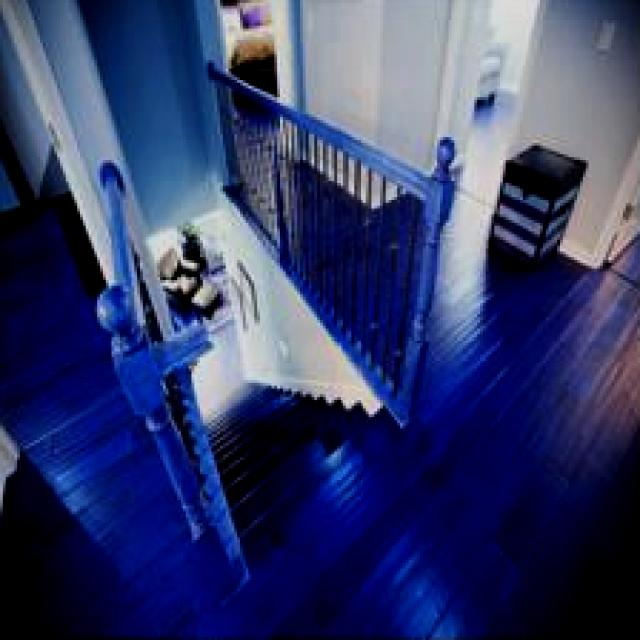downstair: (221, 369, 395, 544)
